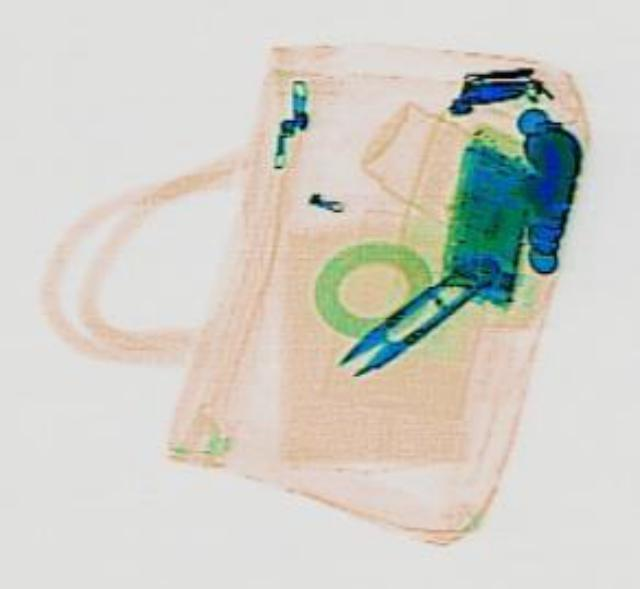Scissors: (325, 240, 507, 383)
